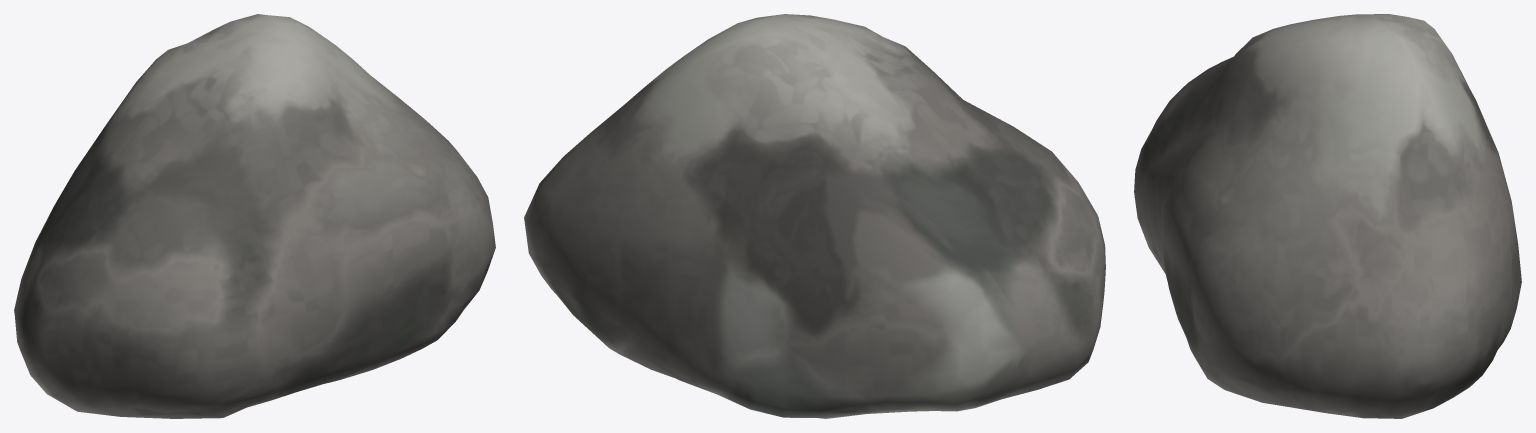
Rendered from round_rock_M.fbx.
3 renders of one model, left to right at view 1: azimuth 30°, elevation 25°; view 2: azimuth 150°, elevation 25°; view 3: azimuth 270°, elevation 25°, orthographic. The views are drawn at different scales.
Parts seen in each view (by area): view 1: round_rock_L.002; view 2: round_rock_L.002; view 3: round_rock_L.002.
Boxes of the visible parts, x1,y1,x2,y2 form: round_rock_L.002: [14, 14, 495, 418]; round_rock_L.002: [524, 14, 1105, 418]; round_rock_L.002: [1134, 14, 1521, 418].
Size of the model in its own units: 1034 by 681 by 693.
